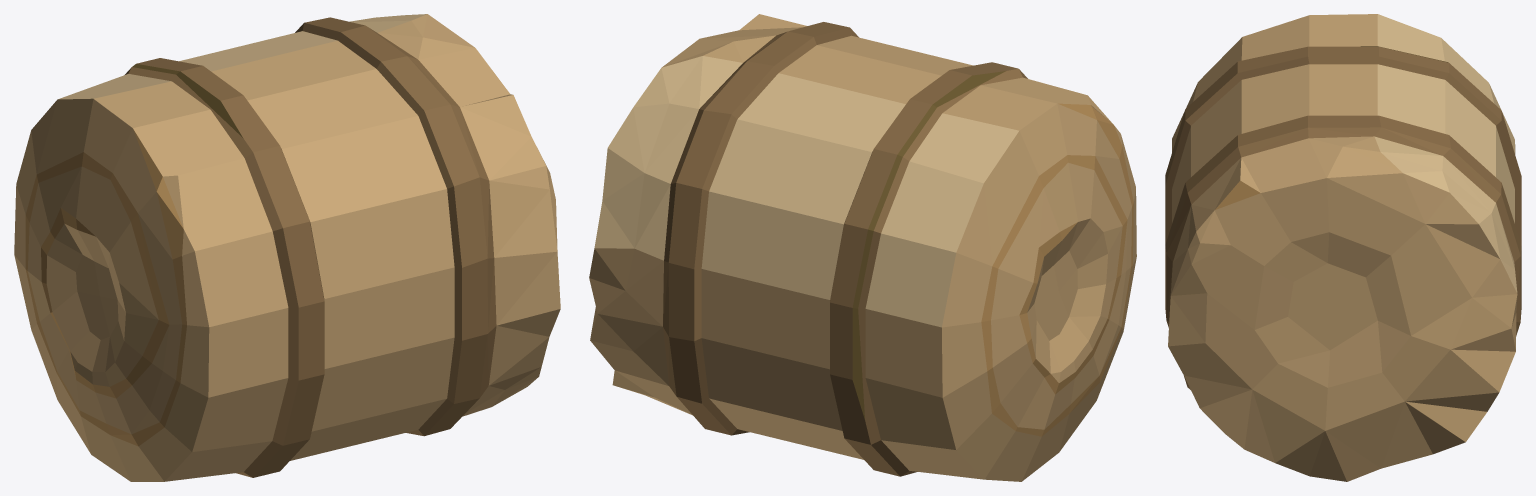
Rendered from EA_M_HayBale_Dry_01b.fbx.
3 views of the same model, side by side, from view 1: azimuth 30°, elevation 25°; view 2: azimuth 150°, elevation 25°; view 3: azimuth 270°, elevation 25° (orthographic). The views are drawn at different scales.
Parts seen in each view (by area): view 1: EA_M_HayBale_Dry_01b_LOD0; view 2: EA_M_HayBale_Dry_01b_LOD0; view 3: EA_M_HayBale_Dry_01b_LOD0.
Part boxes in pixels (x1,y1,x2,y2): EA_M_HayBale_Dry_01b_LOD0: (14,14,560,481); EA_M_HayBale_Dry_01b_LOD0: (589,14,1136,481); EA_M_HayBale_Dry_01b_LOD0: (1165,14,1521,481).
Size of what is drawn, in the model's own units: 1.63 by 1.39 by 1.39.
